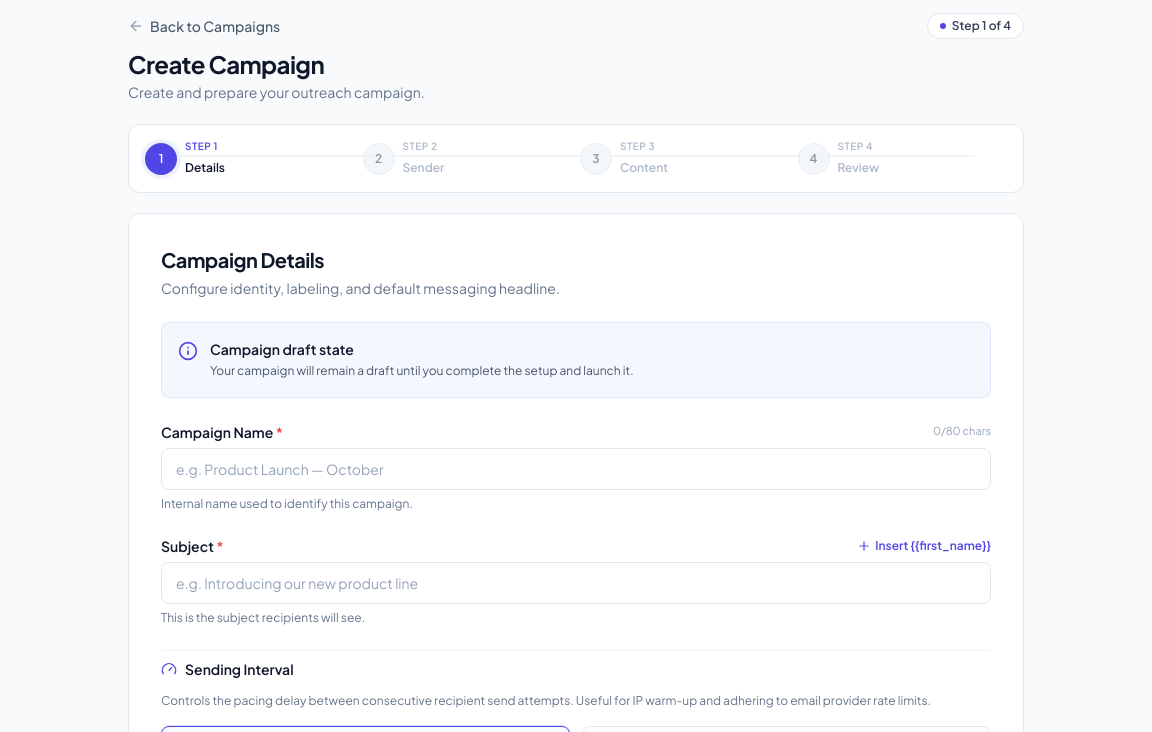
it: C12.2 Signature Loading, Empty Composer Defaults, and Layout Shift Verification › Issue 2: Empty Initial Composer Defaults and Content Restoration › 2.3 Preserves user-entered content when navigating between wizard steps
# Fill in Step 1
Type "Summer Announcement" into the field with placeholder "e.g. Product Launch — October".
click(576, 468); type("Summer Announcement")  # box [161,448,991,490]
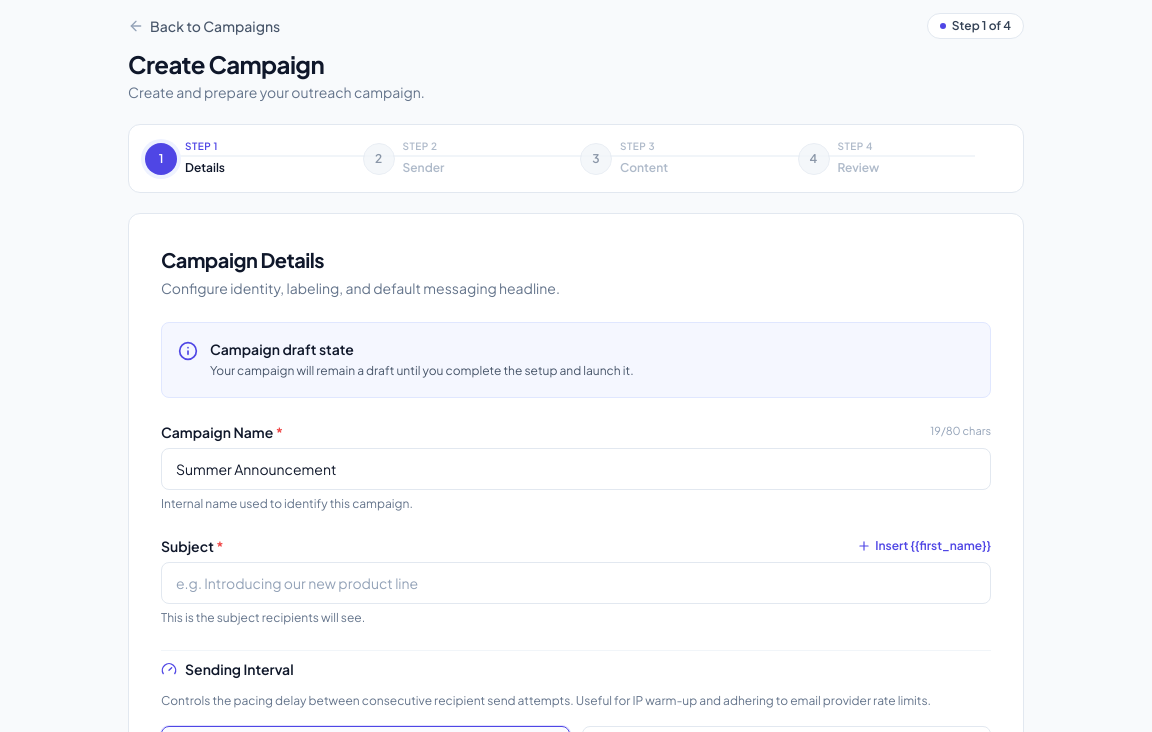
Type "New Features Live" into the field with placeholder "e.g. Introducing our new product line".
click(576, 582); type("New Features Live")  # box [161,562,991,604]
(page scrolled)
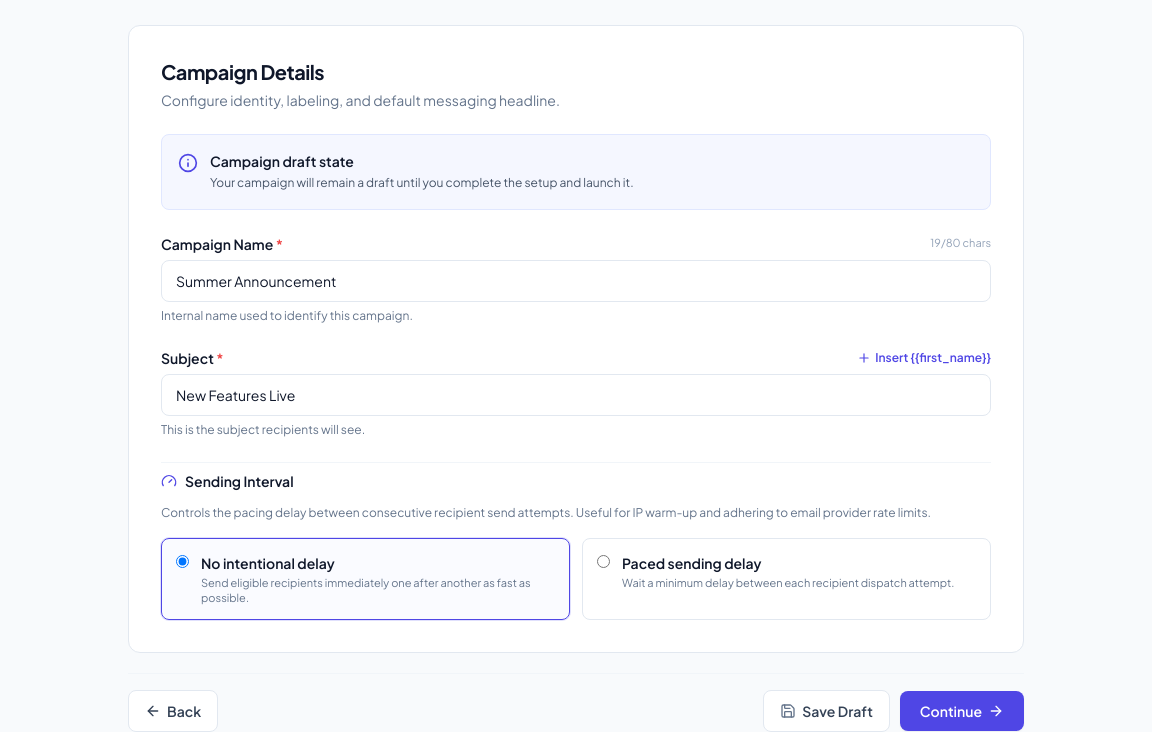
# Navigate to Step 2
Click the button "Continue".
click(962, 711)  # box [900,691,1024,731]
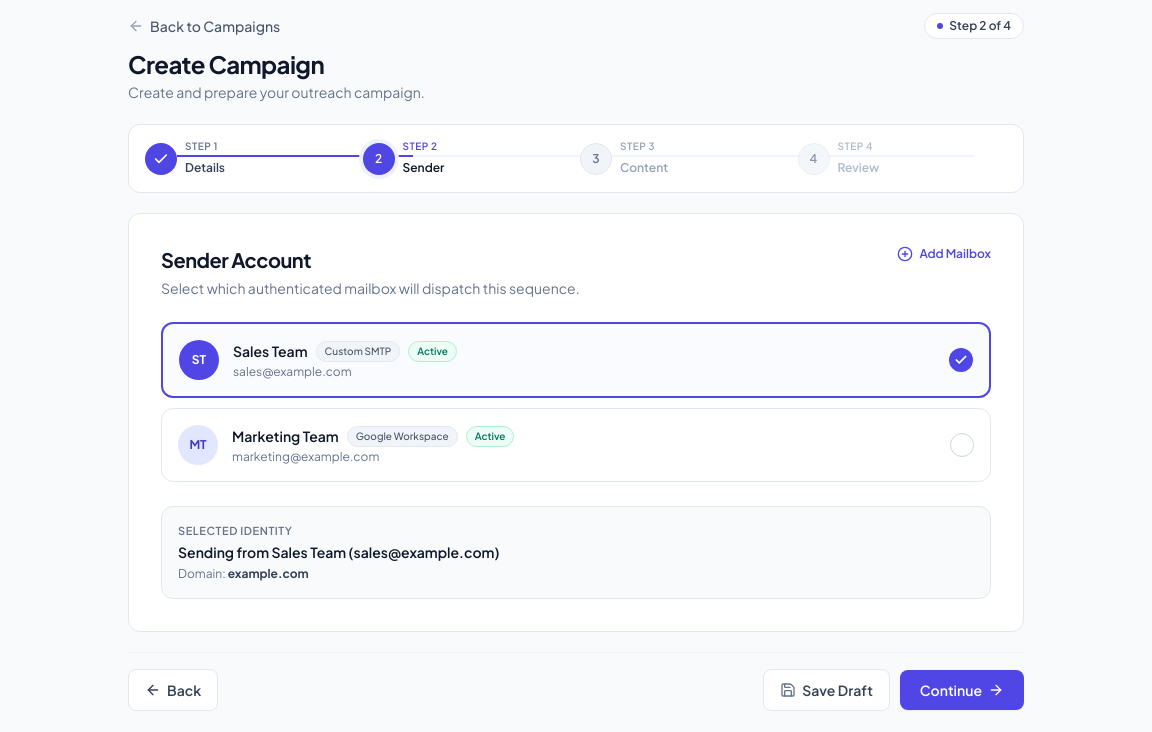
Now the text "Step 2 of 4" is shown, box [949,18,1011,34]
# Navigate back to Step 1
Click the button "Back".
click(173, 690)  # box [128,668,218,710]
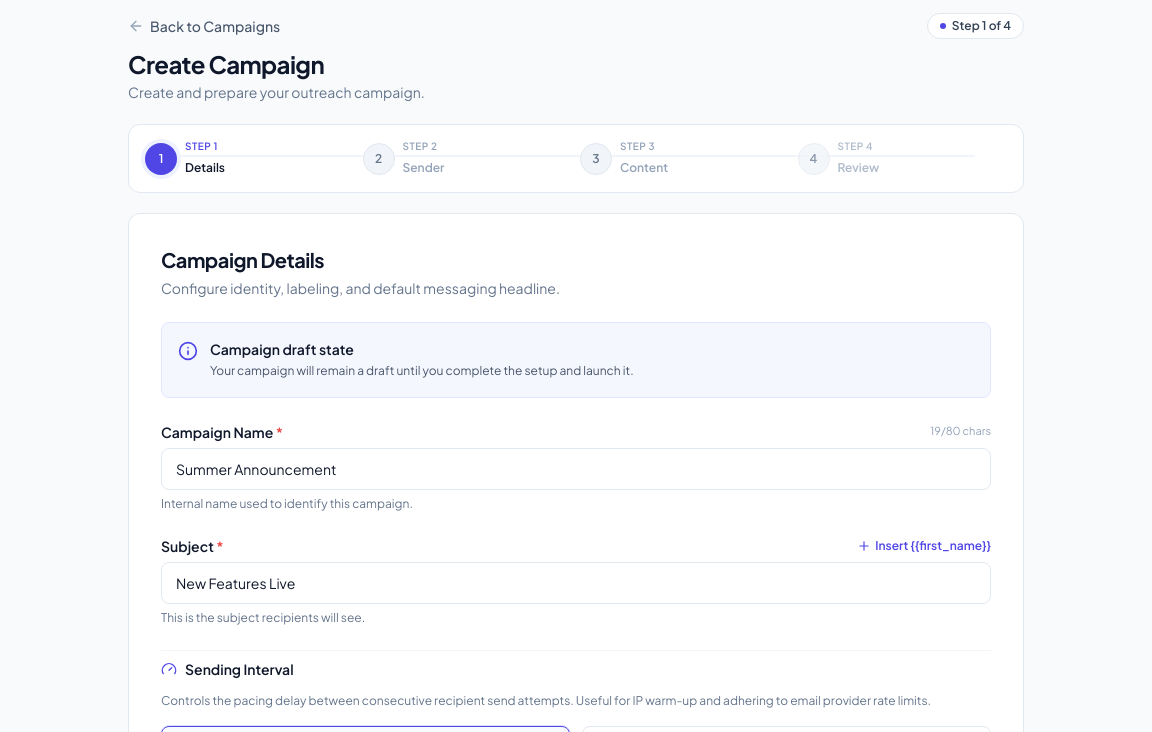
Now the text "Step 1 of 4" is shown, box [952,18,1011,34]
Now the field showing "Summer Announcement" is shown, box [161,448,991,490]
Now the field showing "New Features Live" is shown, box [161,562,991,604]
